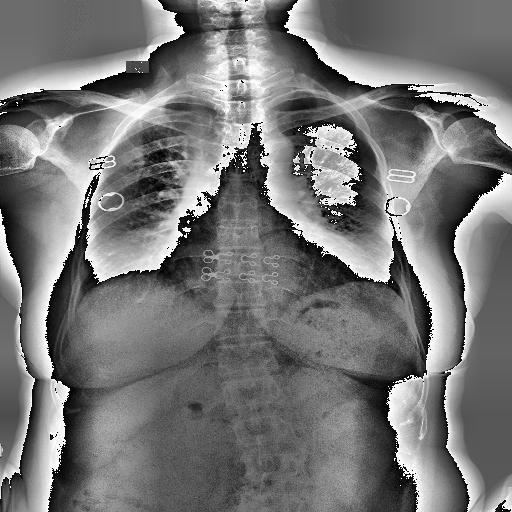3- Cardiomegaly: (156, 234, 370, 306), (154, 230, 366, 288), (154, 240, 374, 294)
